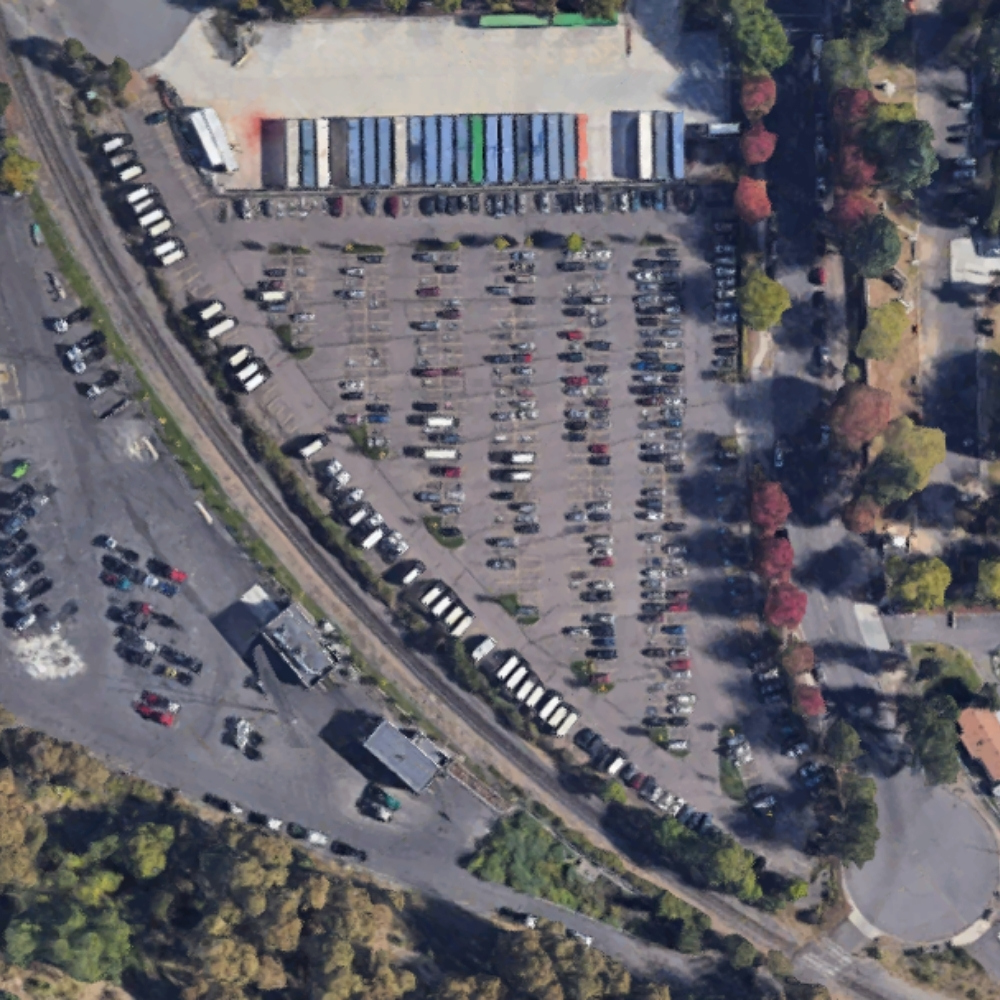parking: (120, 200, 810, 880)
